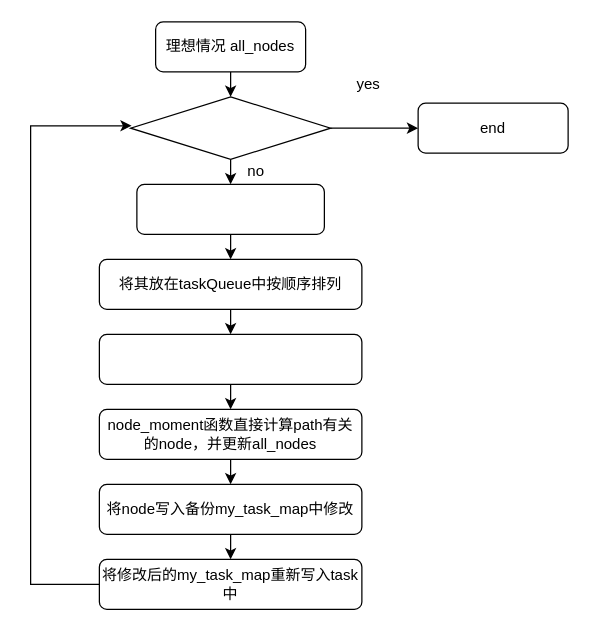
Image size: 590x631. Some labels were removed from this diagram. The centre of each missing label's shape, as x and y in pixels:
"是否迭代完成 timestep?" goes at (230,127).
"读地图，并放在my_task_map 备份" goes at (230,208).
"调用分配函数，得到path" goes at (230,358).
